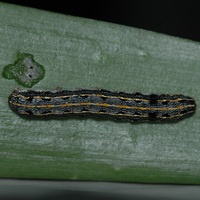insect: (8, 89, 195, 121)
